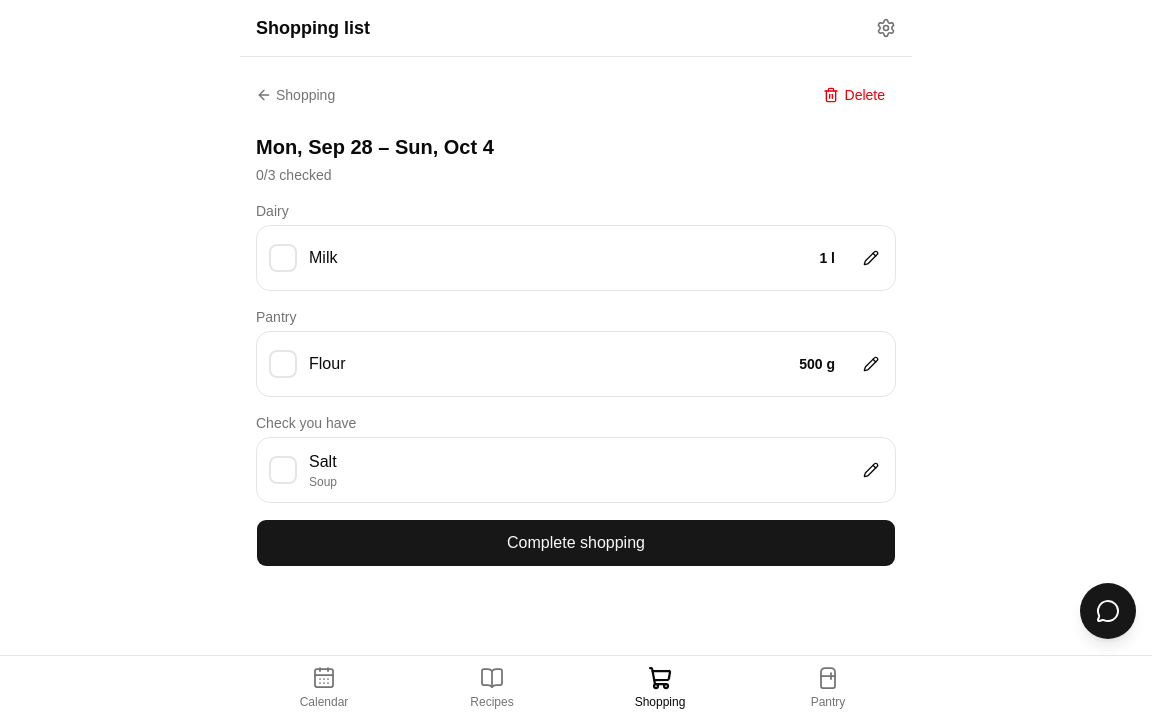
Scenario: shopping checklist › sets the bought quantity in another convertible unit
The width and height of the screenshot is (1152, 720).
Click the button named "Edit bought amount for Milk": point(871, 258) [847,226,895,290]
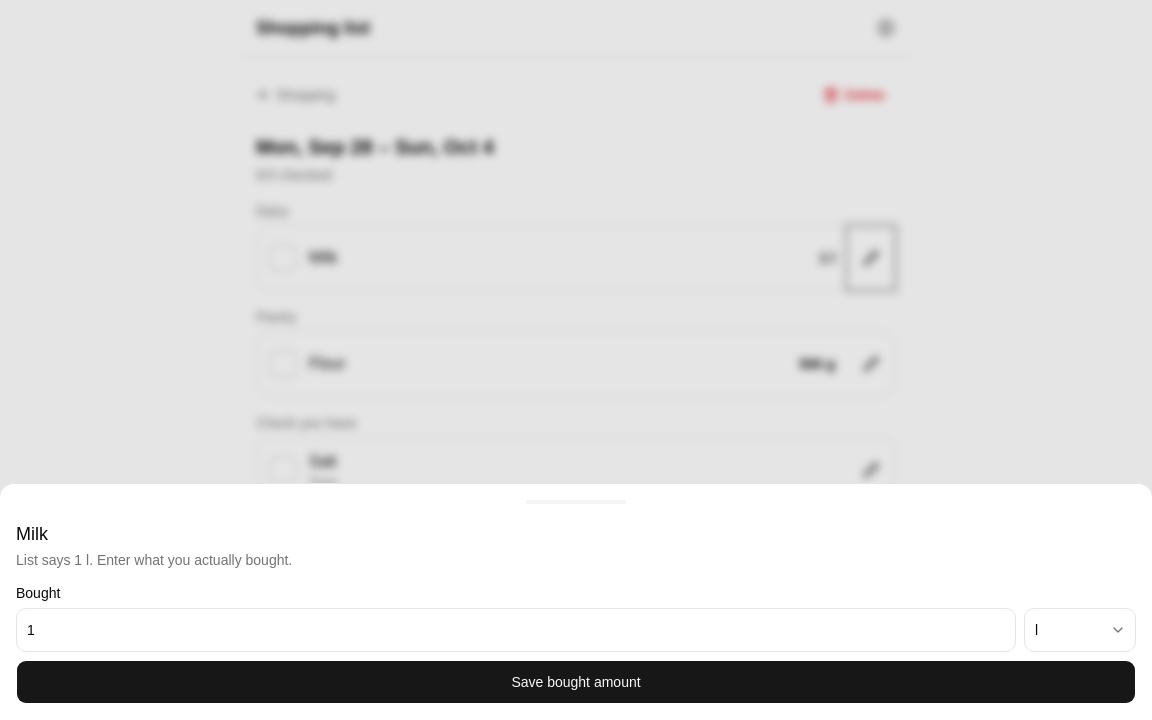
Expected: the field labelled "Bought" holds "1"
Replace the text in the field labelled "Bought" with "2": point(516, 630) [16,608,1016,652]
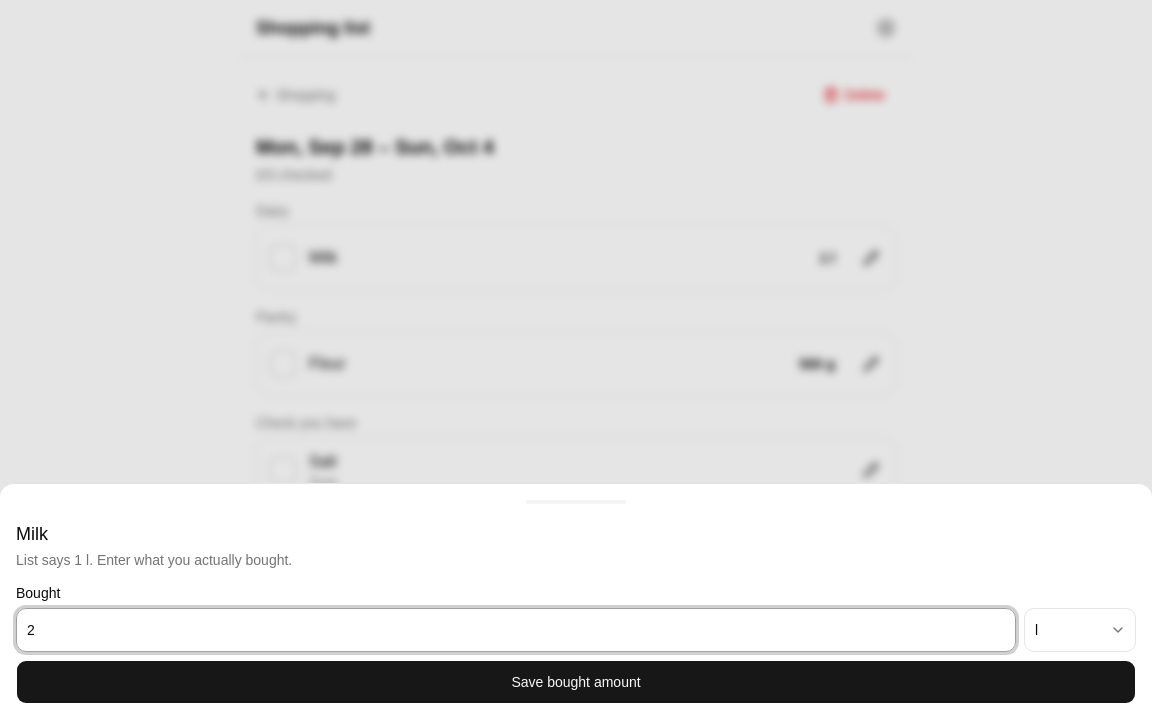
Select "cup" in the dropdown named "Unit": point(1080, 630) [1024,608,1136,652]
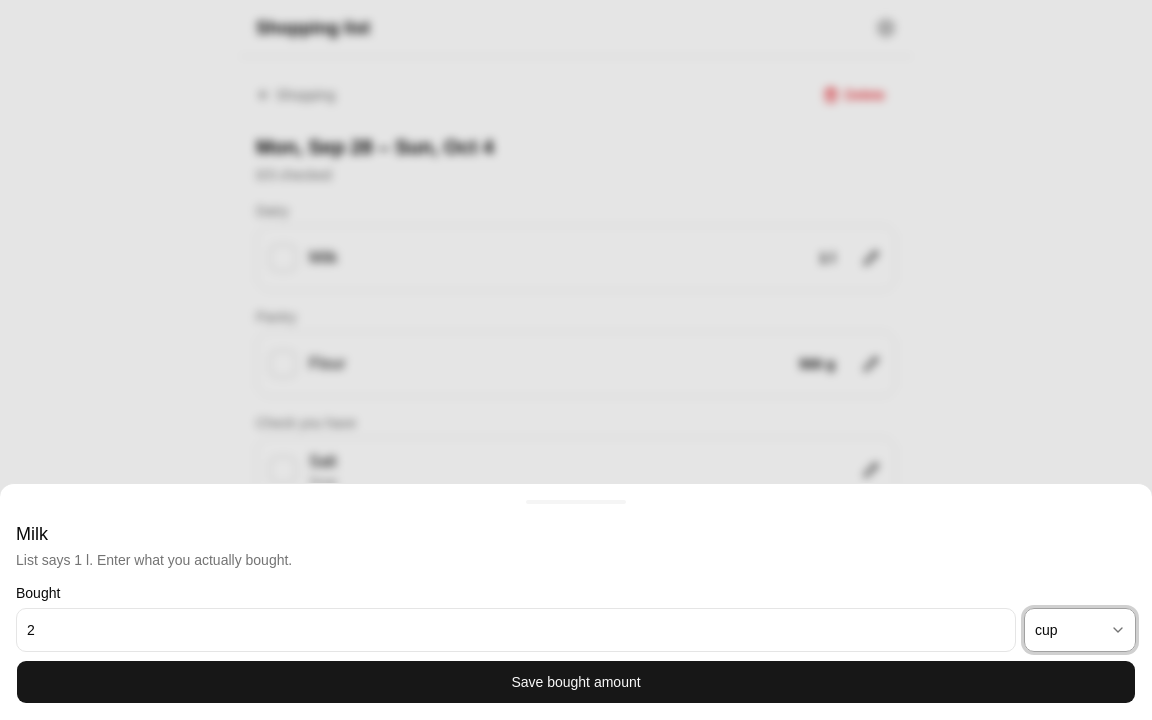
Click the button "Save bought amount": point(576, 682) [16,660,1136,704]
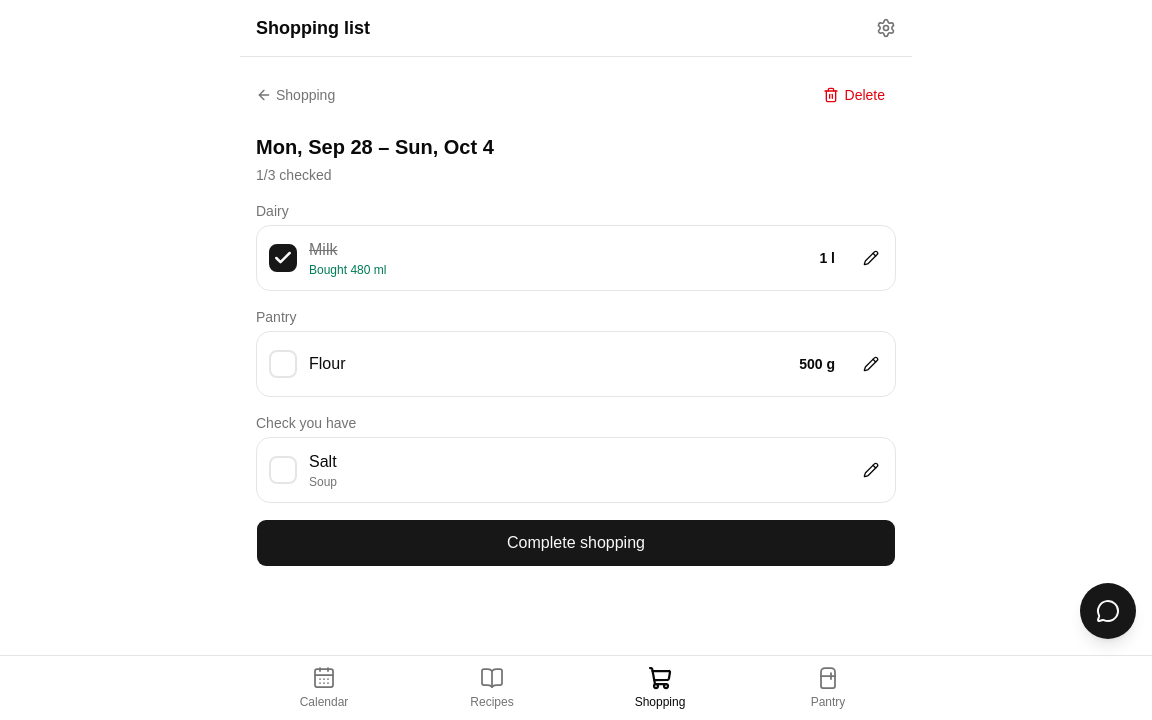
Expected: the text "Bought 480 ml" is shown, [309,263,386,277]
